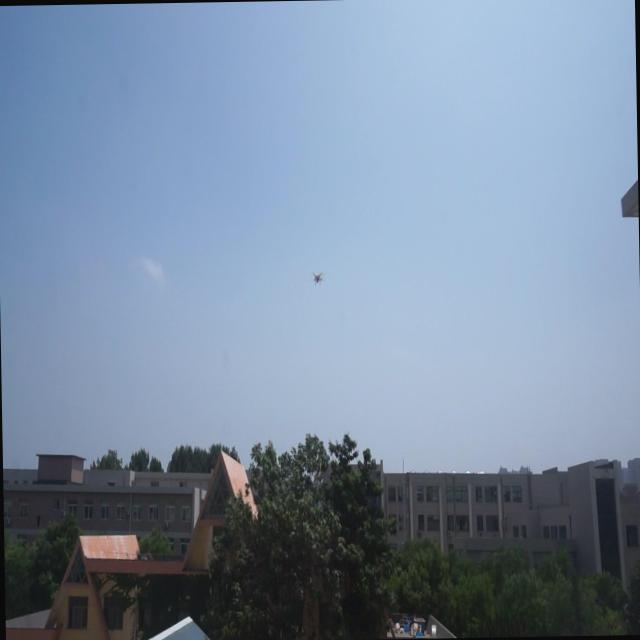drone: (310, 266, 325, 288)
